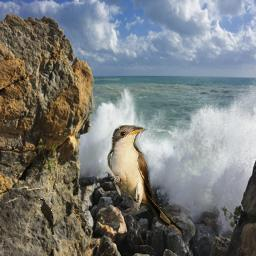Cuckoo: (107, 125, 185, 237), (36, 198, 55, 236)
